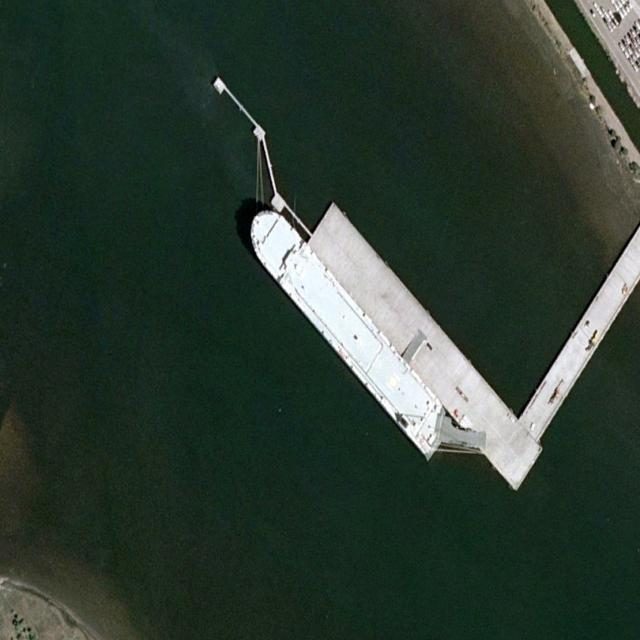RoRo: (240, 195, 456, 461)
